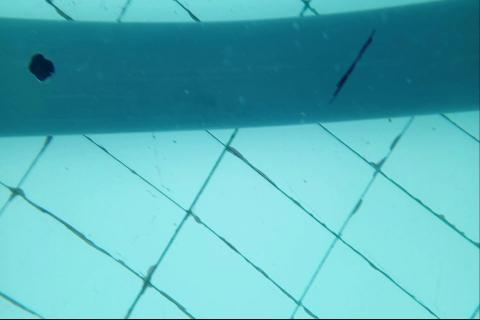kebocoran: (26, 51, 55, 82)
keretakan: (329, 26, 377, 106)
